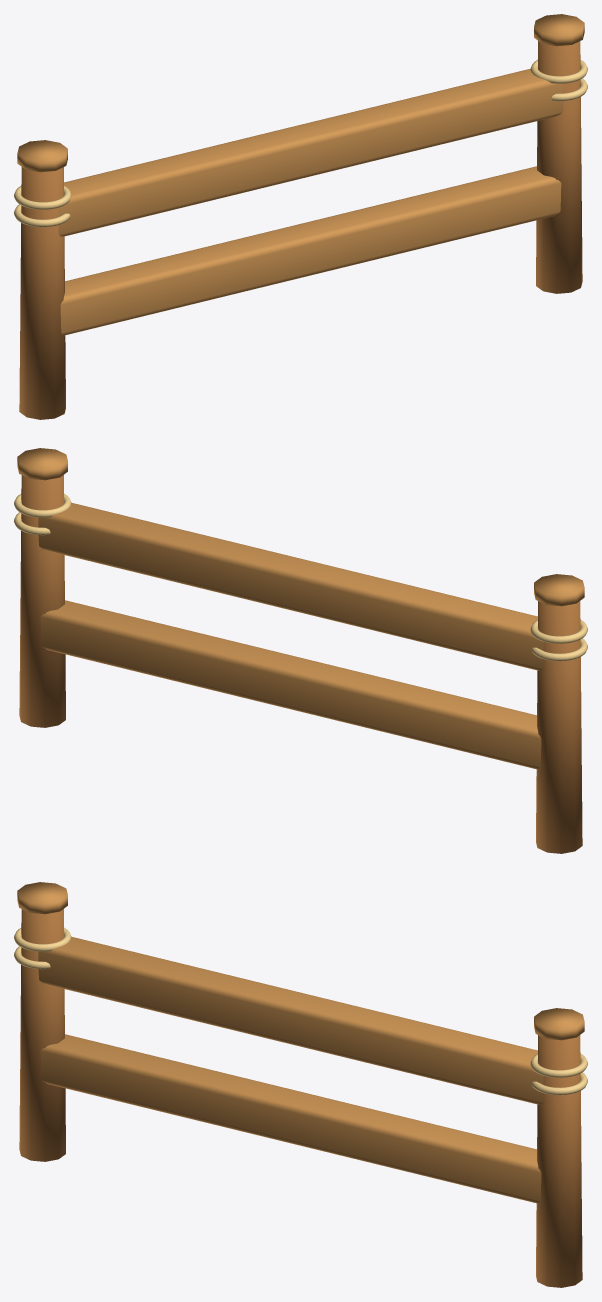
File: fence_wood.glb
3 renders of one model, top to bottom at view 1: azimuth 30°, elevation 25°; view 2: azimuth 150°, elevation 25°; view 3: azimuth 330°, elevation 25°, orthographic.
Parts seen in each view (by area): view 1: fence_wood; view 2: fence_wood; view 3: fence_wood.
Boxes of the visible parts, x1,y1,x2,y2 form: fence_wood: [14, 14, 587, 419]; fence_wood: [14, 448, 587, 853]; fence_wood: [14, 882, 587, 1287].
Size of the model in its own units: 1.97 by 0.8625 by 0.174.
